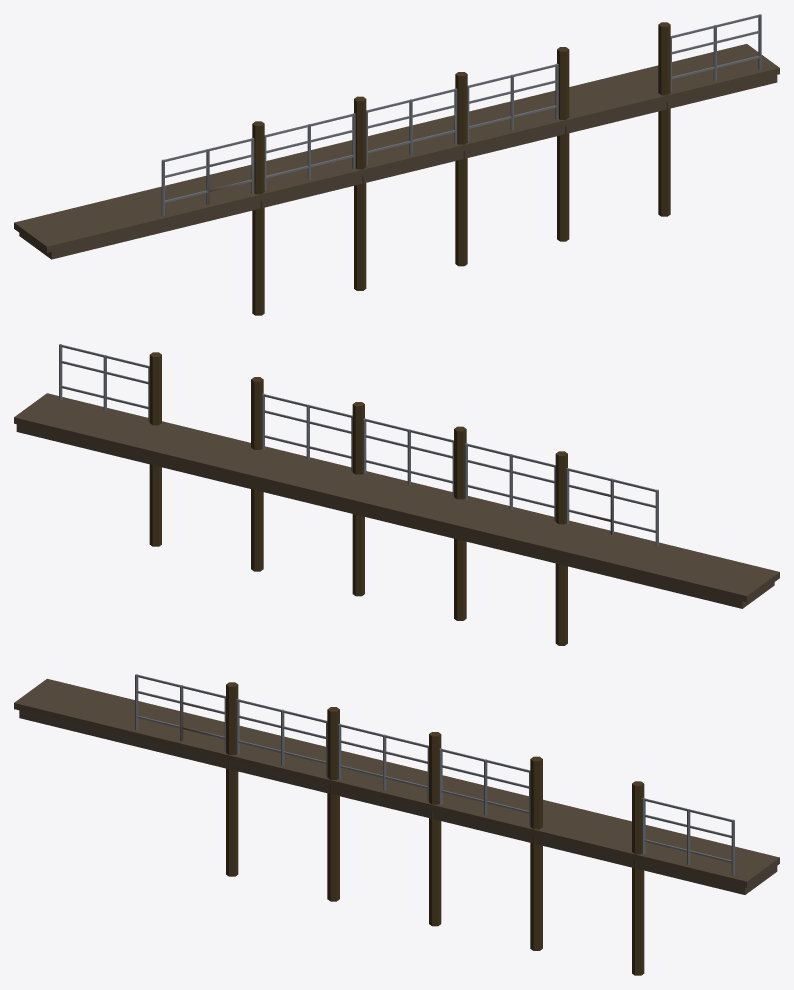
Rendered from DOCKS3.fbx.
3 renders of one model, top to bottom at view 1: azimuth 30°, elevation 25°; view 2: azimuth 150°, elevation 25°; view 3: azimuth 330°, elevation 25°, orthographic.
Visible parts, largest first — view 1: Cube.004; view 2: Cube.004; view 3: Cube.004.
Part boxes in pixels (left/top/right/bottom): Cube.004: left=14, top=14, right=779, bottom=315; Cube.004: left=14, top=344, right=779, bottom=645; Cube.004: left=14, top=674, right=779, bottom=975.
Bounding box in the file's own units: 2743 × 679 × 214.
